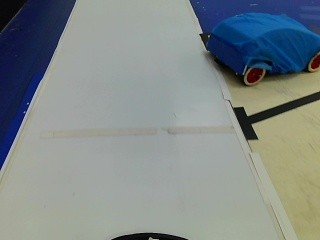car: (205, 12, 318, 83)
